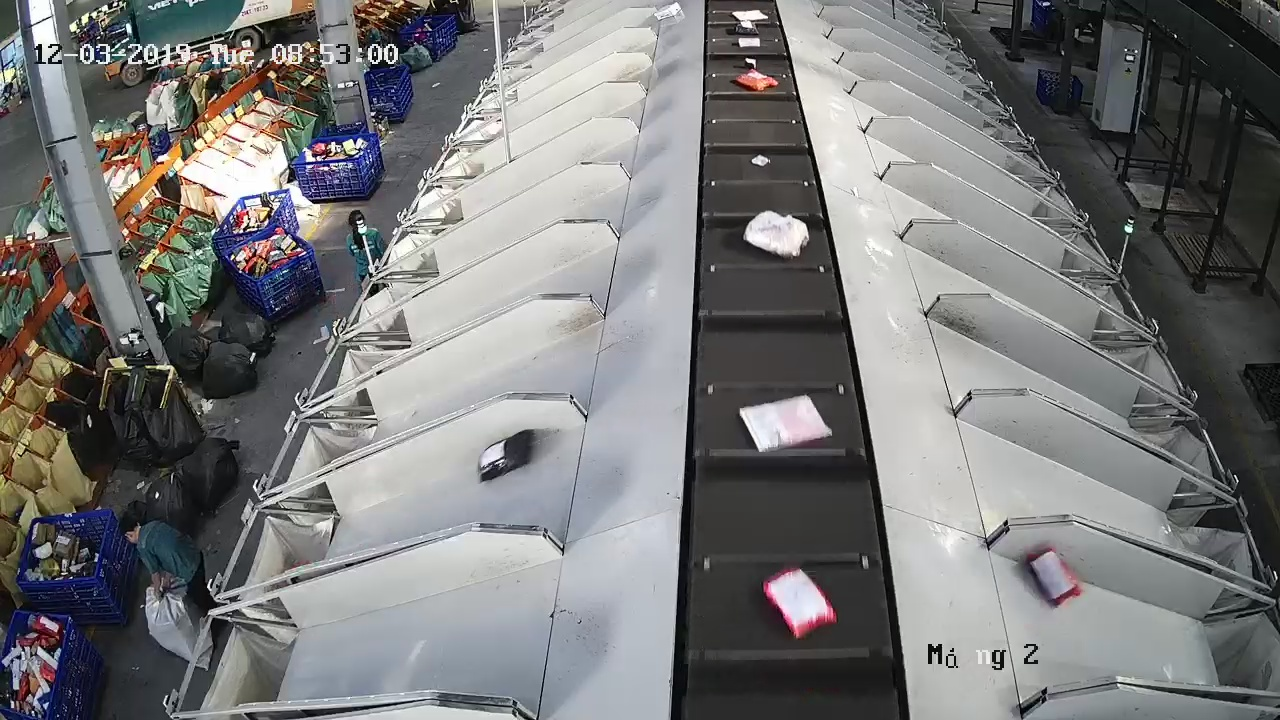parcel: (760, 564, 840, 641), (737, 392, 835, 454), (741, 209, 811, 260), (1026, 545, 1083, 607), (476, 428, 537, 484)
